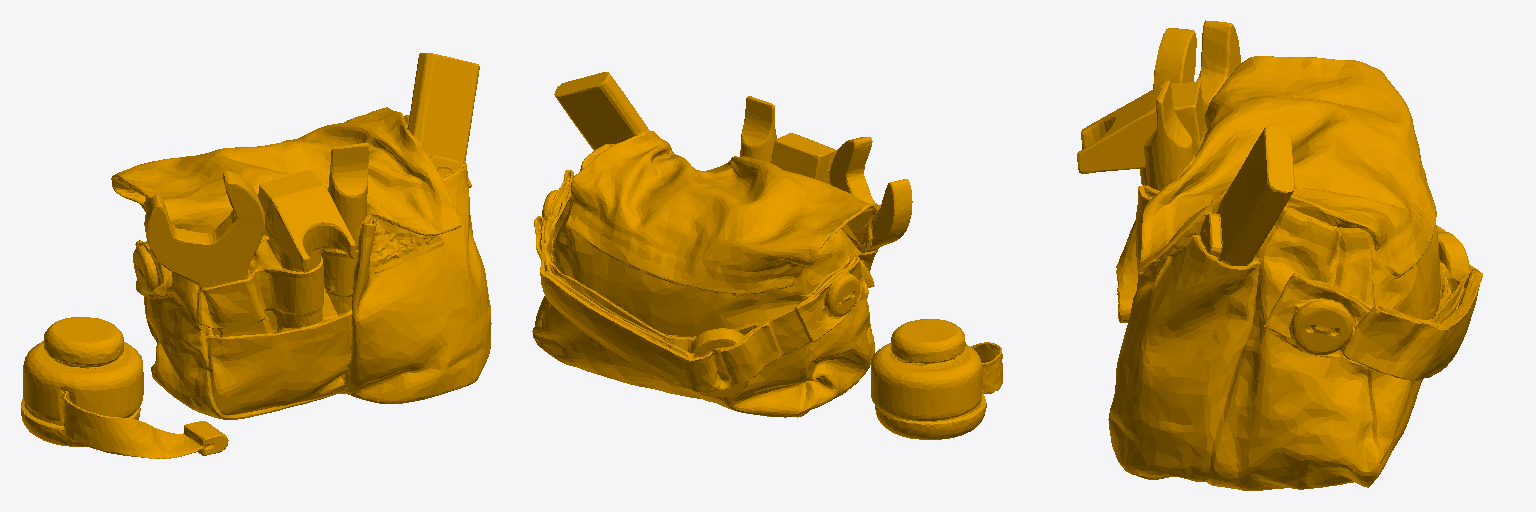
robot.urdf — TOOL_BELT:

<robot name="TOOL_BELT">
    <link name="base">
        <inertial>
            <origin xyz="-6.677566508657763e-18 -1.1129277514429604e-18 -1.7806844023087367e-17" />
            <mass value="0.0020295607896225892" />
            <inertia ixx="4.037056986109437e-06" ixy="-5.541630190336369e-08" 
                     ixz="-2.935737465309692e-07" iyy="8.266493170190582e-06" 
                     iyz="-3.5554267417892874e-08" izz="7.994256220434004e-06" />
        </inertial>
        <visual>
            <origin xyz="0 0 0" />
            <geometry>
                <mesh filename="visual_geometry.obj" />
            </geometry>
        </visual>
        <collision>
            <origin xyz="0 0 0" />
            <geometry>
                <mesh filename="collision_geometry.obj" />
            </geometry>
        </collision>
    </link>
</robot>

--- Facts derived from the render (not from the file) ---
3 views of the same robot in one strip: view 1: azimuth 30°, elevation 25°; view 2: azimuth 150°, elevation 25°; view 3: azimuth 270°, elevation 25° (orthographic).
Robot: TOOL_BELT — 1 links, 0 joints (none); root link base; default pose: every joint at zero.
Visible links, largest first — view 1: base; view 2: base; view 3: base.
Boxes of the visible links, bbox=[...] form: base: bbox=[21, 53, 491, 458]; base: bbox=[532, 72, 1002, 439]; base: bbox=[1077, 20, 1482, 490].
Size in the robot's own frame: 0.2613 by 0.1632 by 0.1606 metres.
Meshes: 1 distinct files referenced, 1 mesh visuals loaded (1 OBJ).